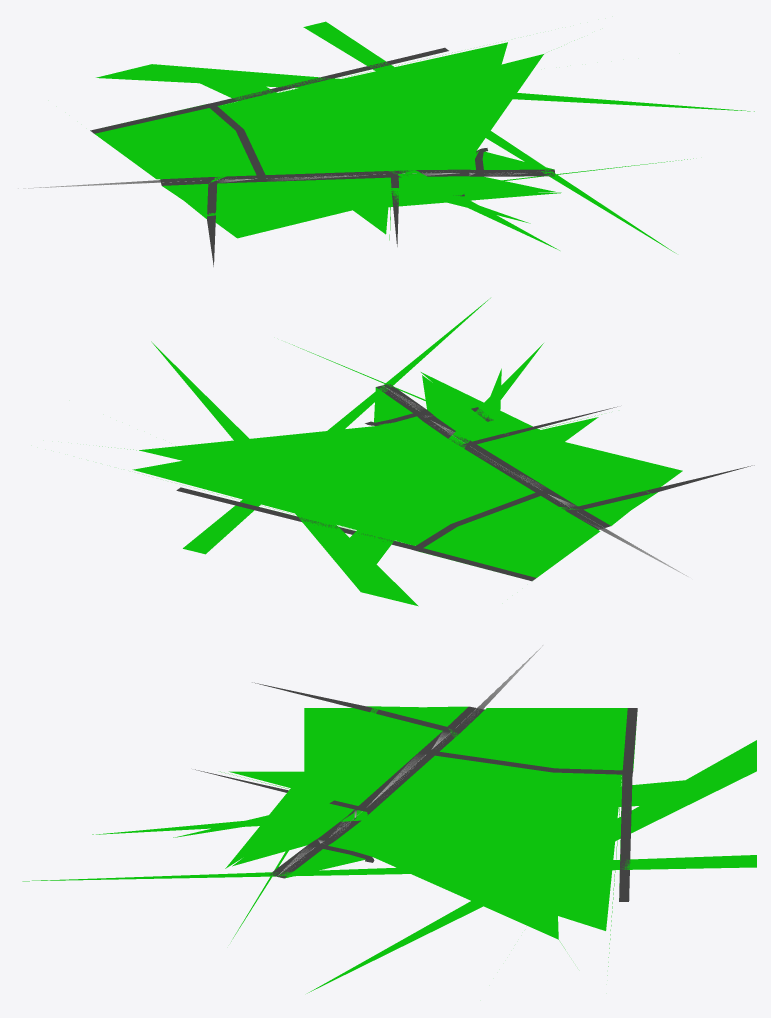
3 views of the same model, one above another, from view 1: azimuth 30°, elevation 25°; view 2: azimuth 150°, elevation 25°; view 3: azimuth 270°, elevation 25° (orthographic). The views are drawn at different scales.
Size of the model in its own units: 339 by 0.001 by 295.
